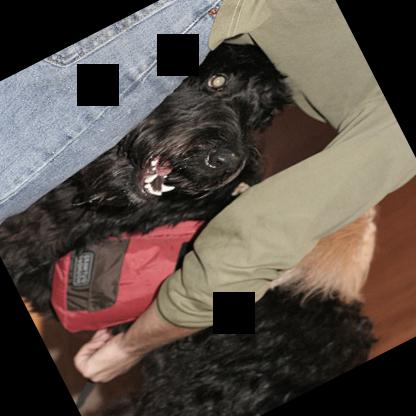backpack: (44, 219, 210, 332)
